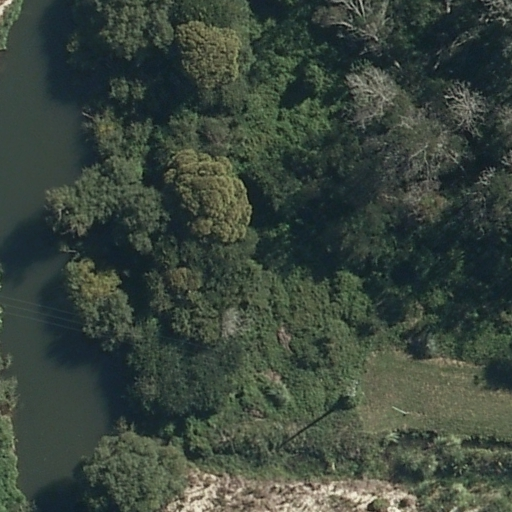DT: (338, 375, 363, 401)
